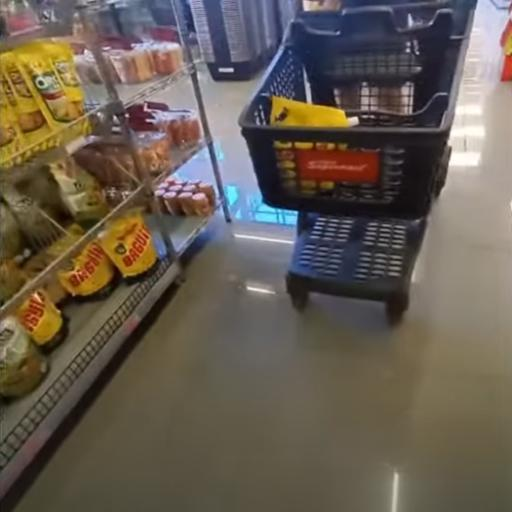shopping_cart: (234, 0, 482, 326)
